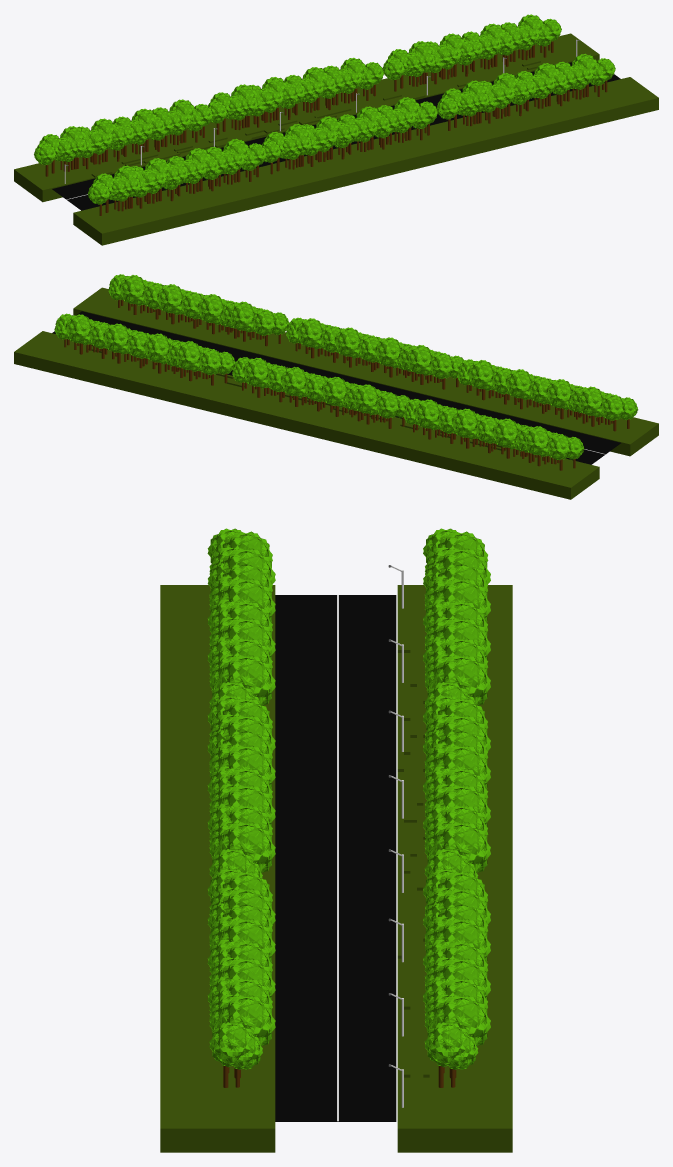
File: Environment.glb
3 views of the same model, one above another, from view 1: azimuth 30°, elevation 25°; view 2: azimuth 150°, elevation 25°; view 3: azimuth 270°, elevation 25° (orthographic). The views are drawn at different scales.
Visible parts, largest first — view 1: Icosphere.006, Cube.011, Cube.010, Cube.009; view 2: Icosphere.006, Cube.010, Cube.011, Cube.009; view 3: Icosphere.006, Cube.009, Cube.011, Cube.010.
Boxes of the visible parts, x1,y1,x2,y2 form: Icosphere.006: [34, 14, 615, 215]; Cube.011: [73, 77, 658, 245]; Cube.010: [14, 33, 599, 202]; Cube.009: [52, 62, 620, 210]; Icosphere.006: [54, 274, 638, 470]; Cube.010: [14, 331, 599, 499]; Cube.011: [73, 287, 658, 456]; Cube.009: [52, 311, 620, 464]; Icosphere.006: [207, 528, 490, 1087]; Cube.009: [275, 595, 396, 1121]; Cube.011: [160, 585, 275, 1152]; Cube.010: [397, 585, 512, 1152].
Size of the model in its own units: 286 by 25.17 by 78.31.
